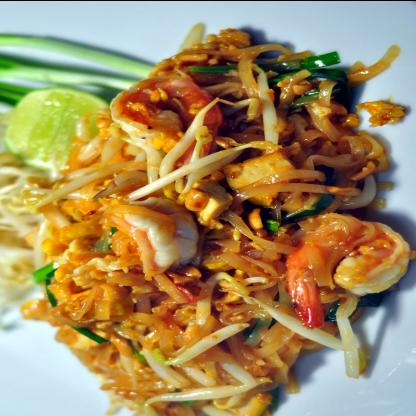Pad Thai: (26, 21, 415, 415)
